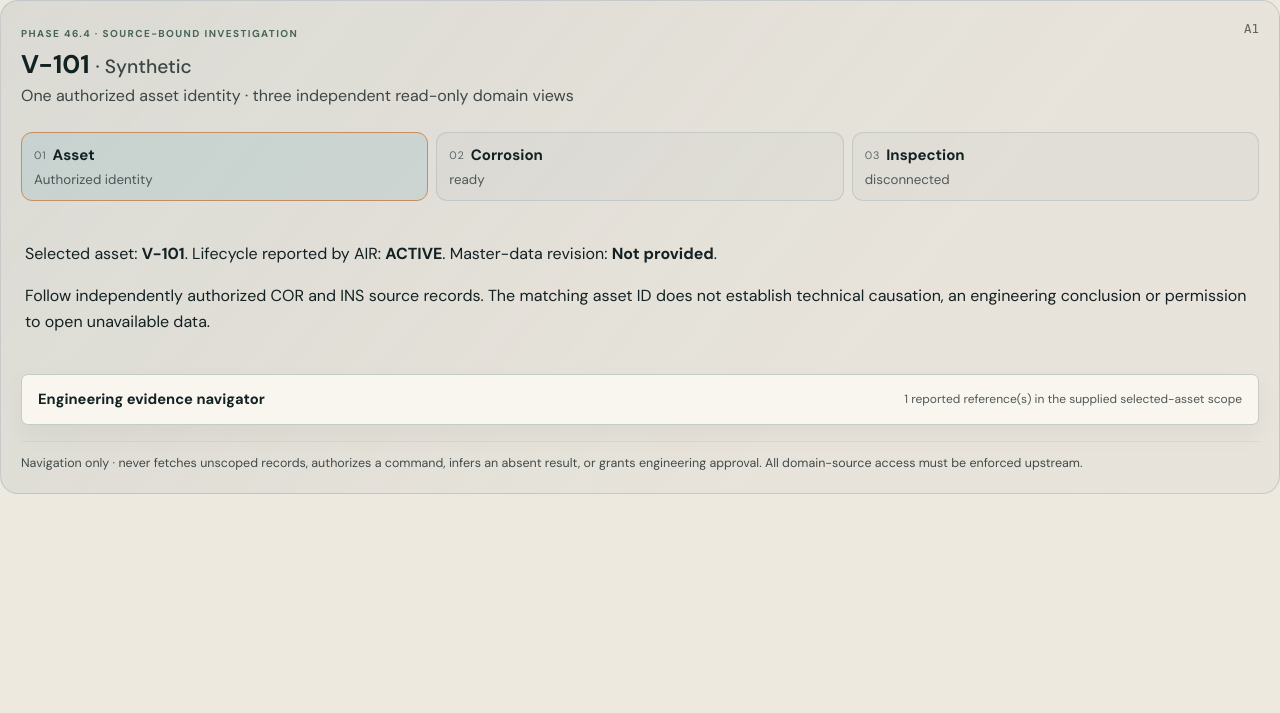
Phase 46.17 mounted trace interactions › rotates trace state when the selected source scope changes
The width and height of the screenshot is (1280, 713).
Click the text "Engineering evidence navigator". click: (151, 399)
box: [38,389,265,409]
(page scrolled)
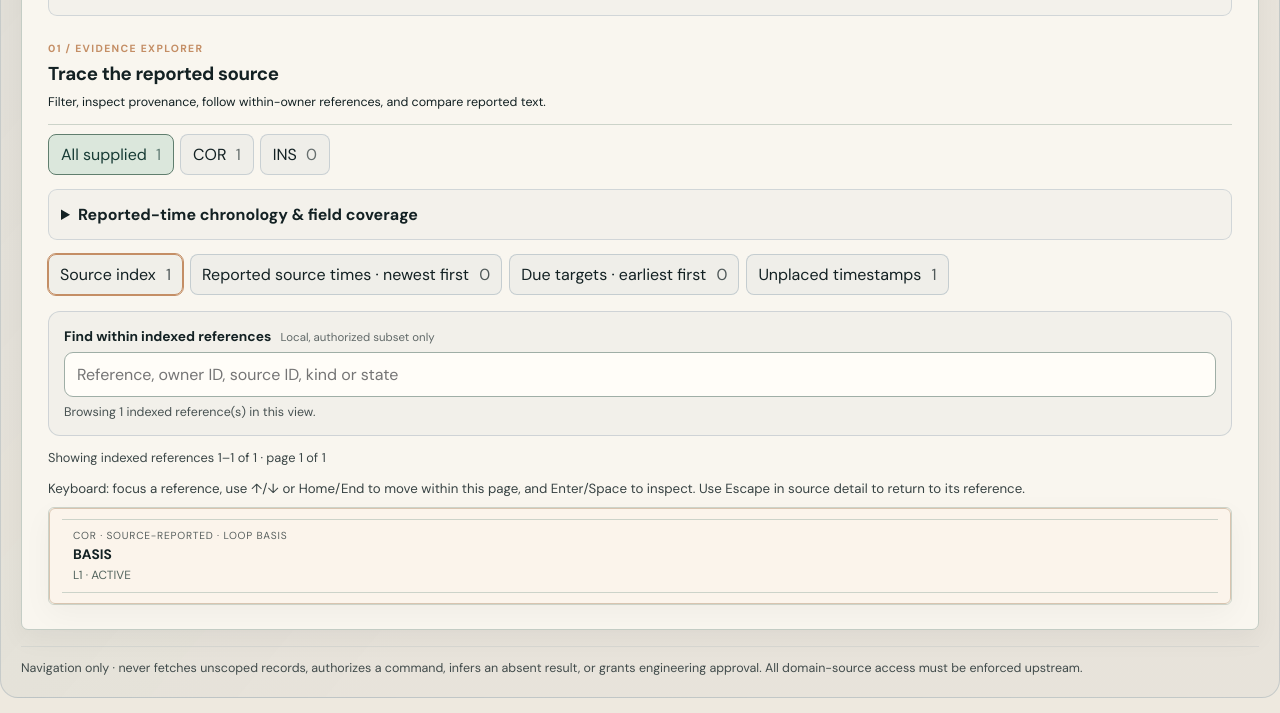
Click the button "COR · source-reported · Loop basis BASIS L1 · ACTIVE". click: (143, 535)
box: [62,520,1218,592]
(page scrolled)
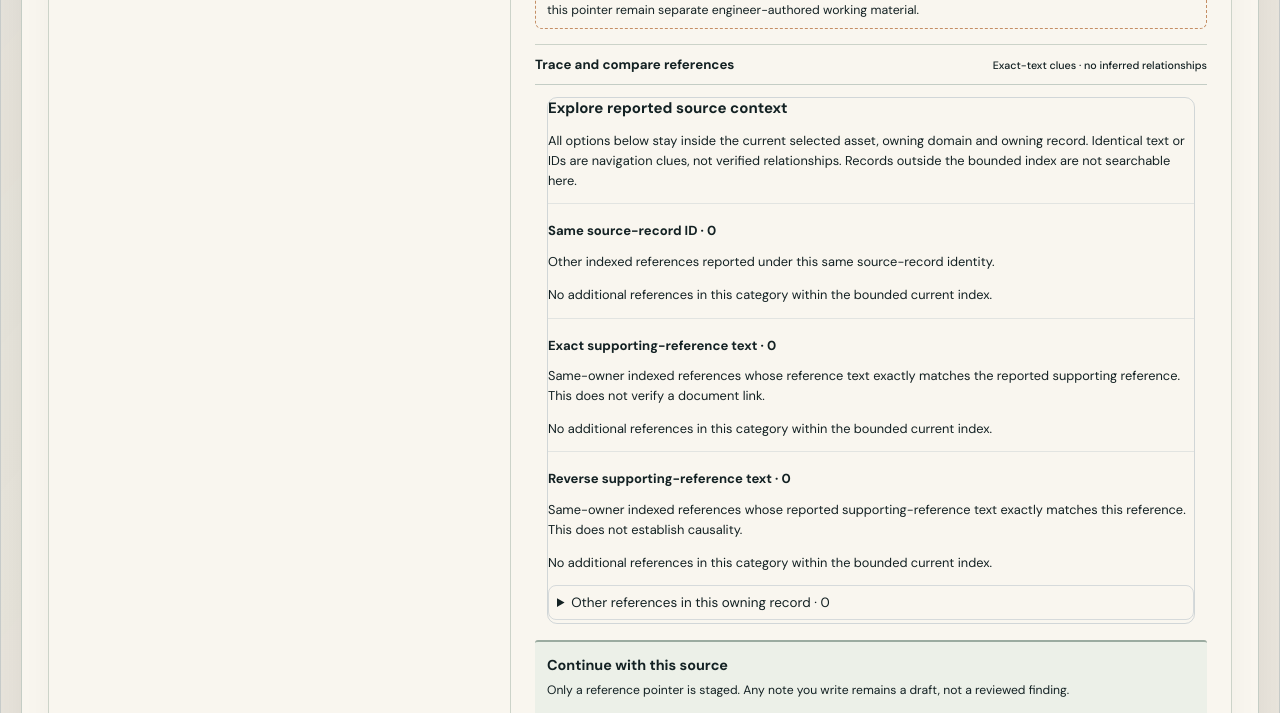
Now the element named "Selected evidence trace navigation" is shown, box [547,97,1195,624]
